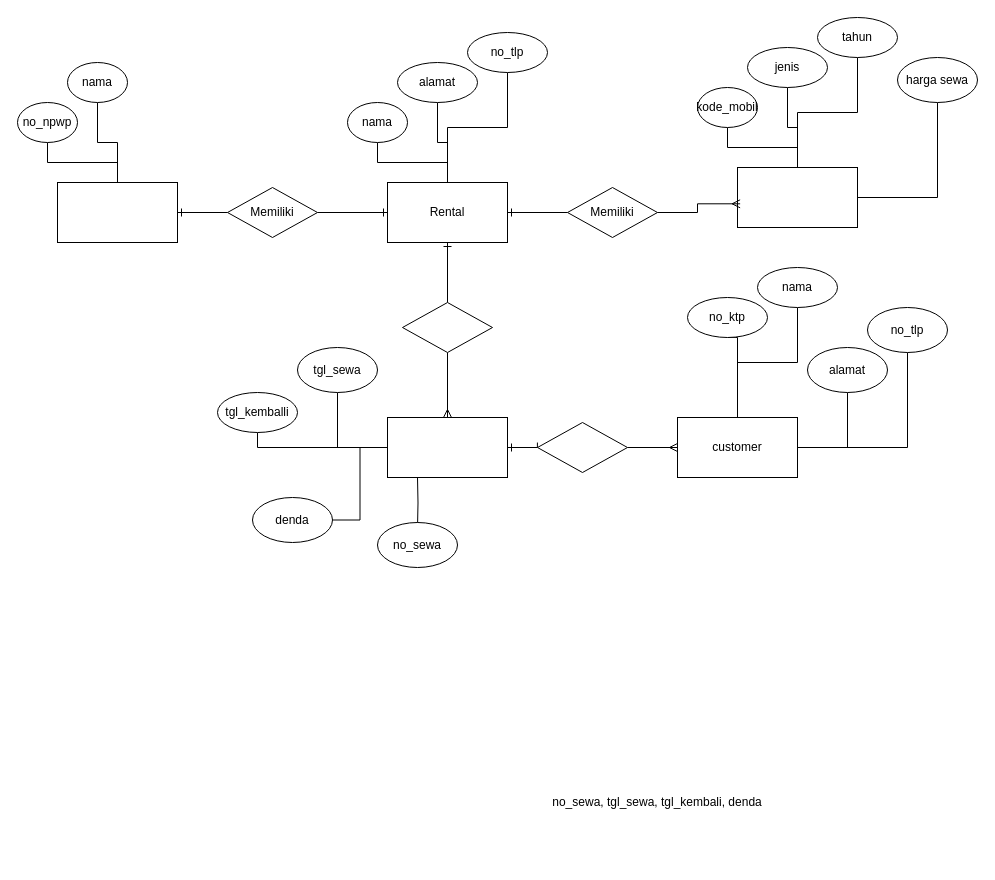
Image size: 995x880. Some labels were removed from this diagram. The box of each missing label's shape, as (x1, y1, x2, y2) in pixels:
Menyewa: (536, 422, 628, 472)
Menyewakan: (402, 302, 492, 352)
mobil: (736, 166, 858, 228)
Owner: (56, 182, 178, 242)
sewa: (386, 416, 508, 478)
